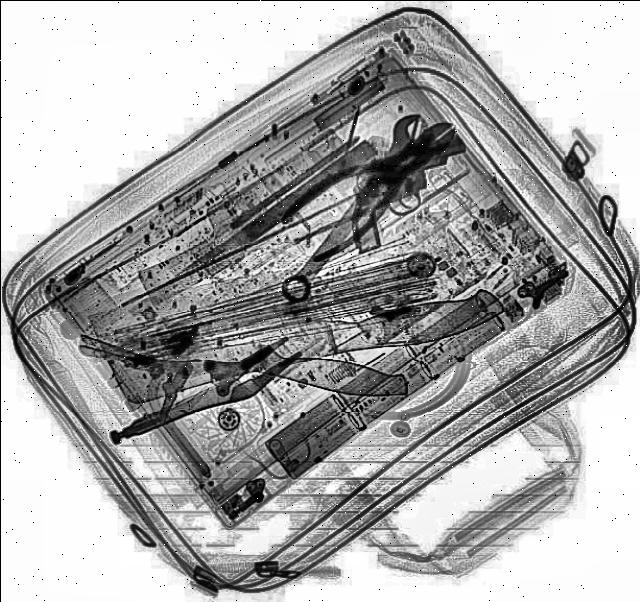Gun: (323, 128, 492, 252)
Knife: (84, 222, 504, 410), (141, 320, 409, 405)
Pliers: (272, 105, 480, 258)
Wrench: (266, 106, 444, 310)
